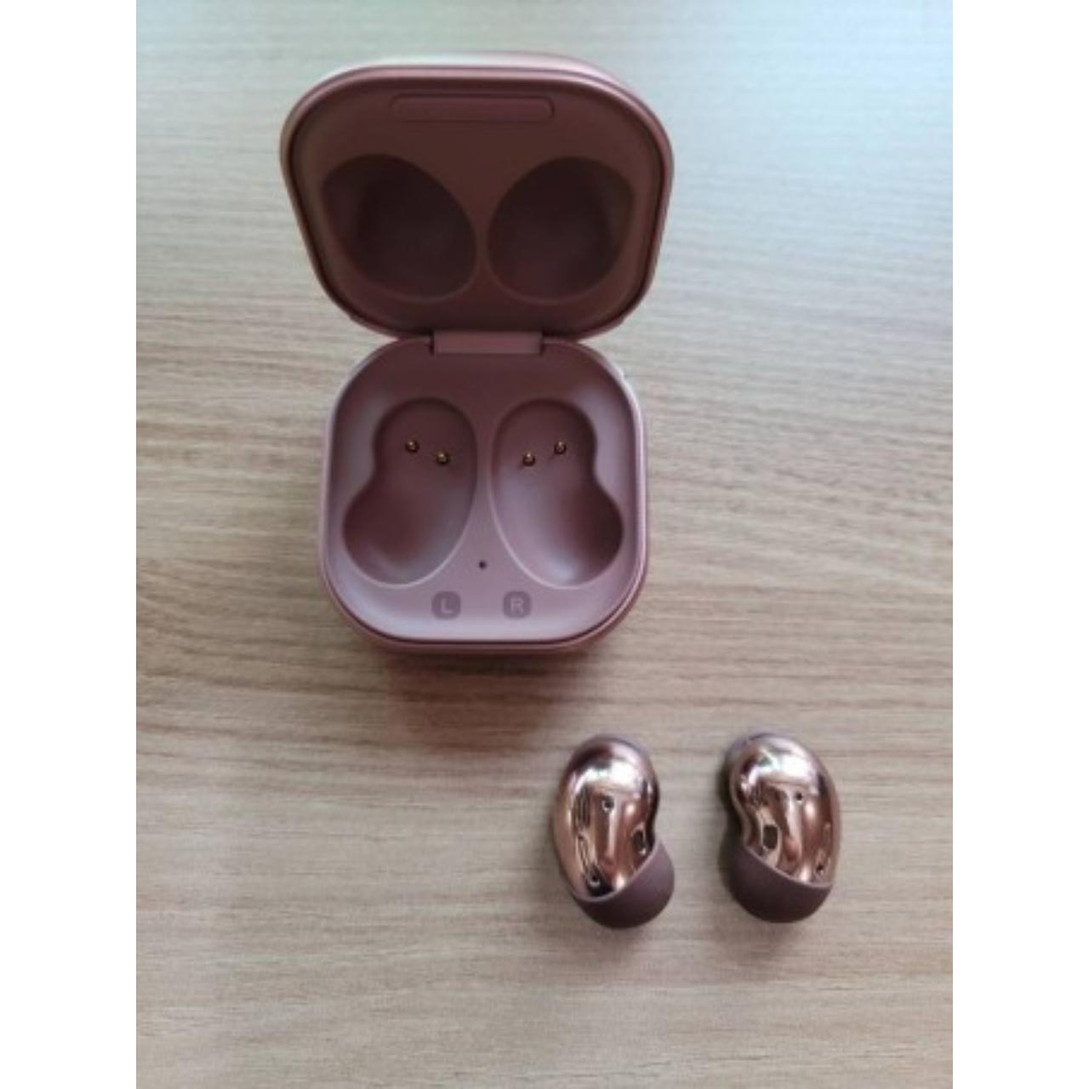Buds: (272, 56, 679, 669)
Buds_Units: (545, 724, 683, 937), (715, 730, 847, 929)
